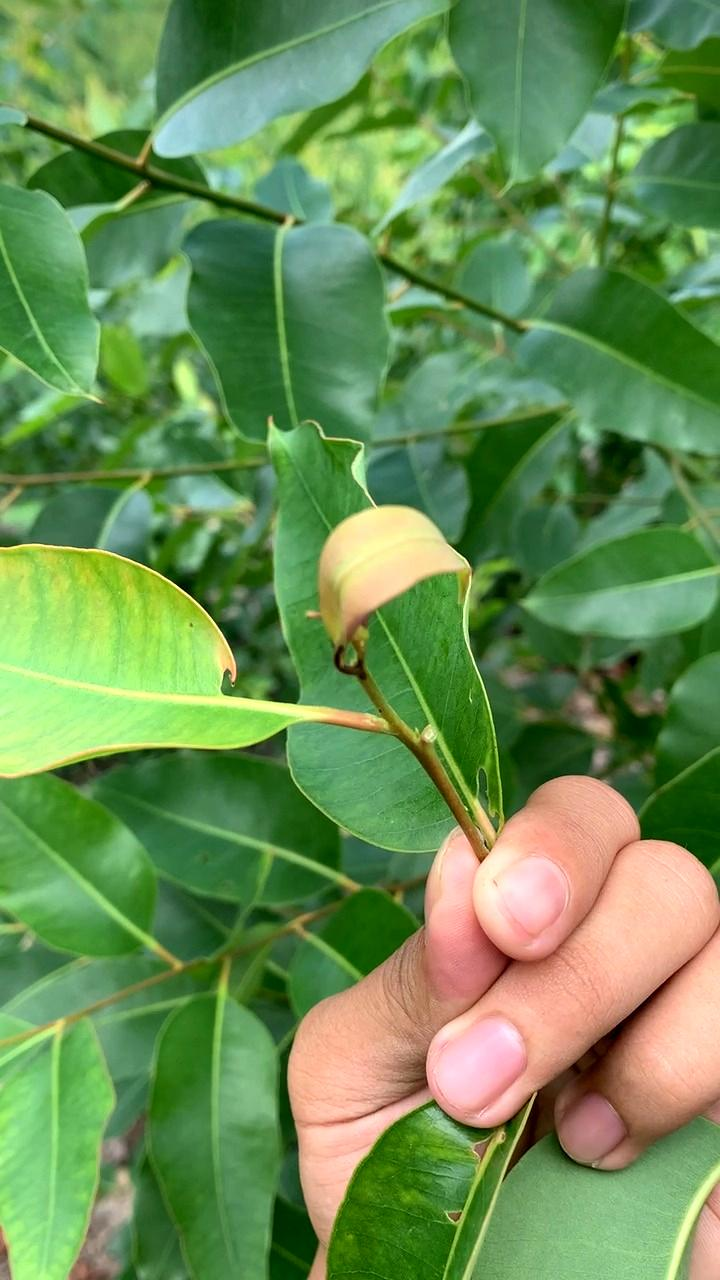Helopeltis-Withered Sprout: (293, 491, 483, 703)
